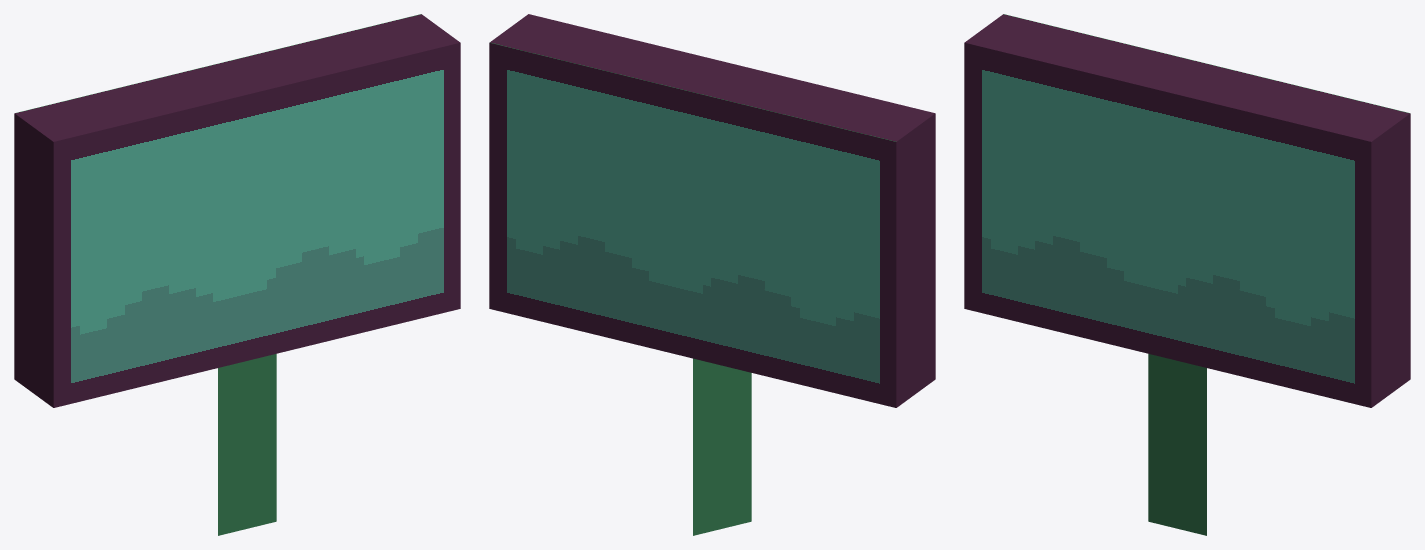
File: Sign.fbx
3 renders of one model, left to right at view 1: azimuth 30°, elevation 25°; view 2: azimuth 150°, elevation 25°; view 3: azimuth 330°, elevation 25°, orthographic.
Parts seen in each view (by area): view 1: Sign; view 2: Sign; view 3: Sign.
Part boxes in pixels (x1,y1,x2,y2): Sign: (14,14,460,535); Sign: (489,14,935,535); Sign: (964,14,1410,535).
Size of the model in its own units: 0.96 by 1 by 0.16.
1 material, 1 textured.
